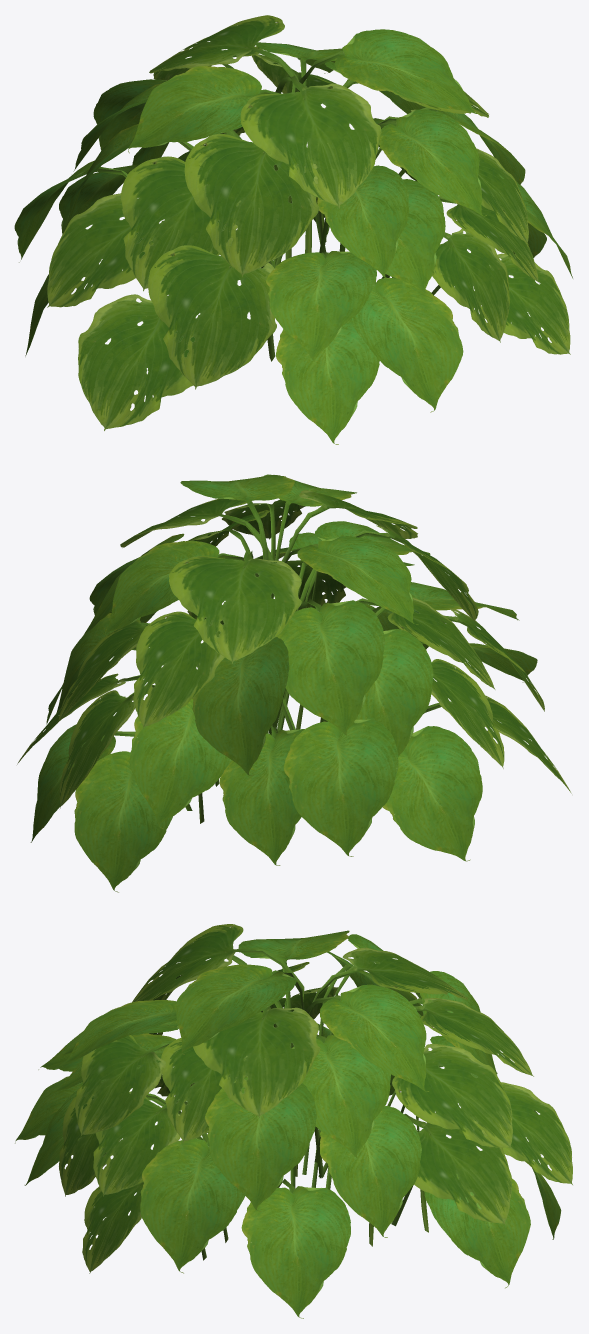
File: NaturePlant01_4.FBX
3 views of the same model, one above another, from view 1: azimuth 30°, elevation 25°; view 2: azimuth 150°, elevation 25°; view 3: azimuth 270°, elevation 25° (orthographic). The views are drawn at different scales.
Parts seen in each view (by area): view 1: NaturePlant01_4; view 2: NaturePlant01_4; view 3: NaturePlant01_4.
Part boxes in pixels (x1,y1,x2,y2): NaturePlant01_4: (14, 15, 572, 444); NaturePlant01_4: (17, 474, 571, 892); NaturePlant01_4: (15, 924, 572, 1318).
Bounding box in the file's own units: 0.7765 × 0.4535 × 0.819.
